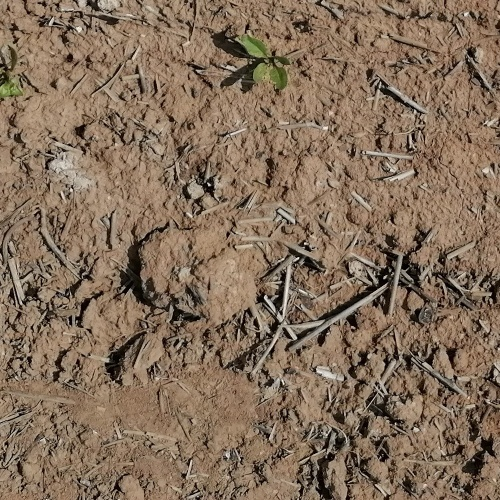beet: (241, 34, 291, 90), (0, 46, 27, 97)
